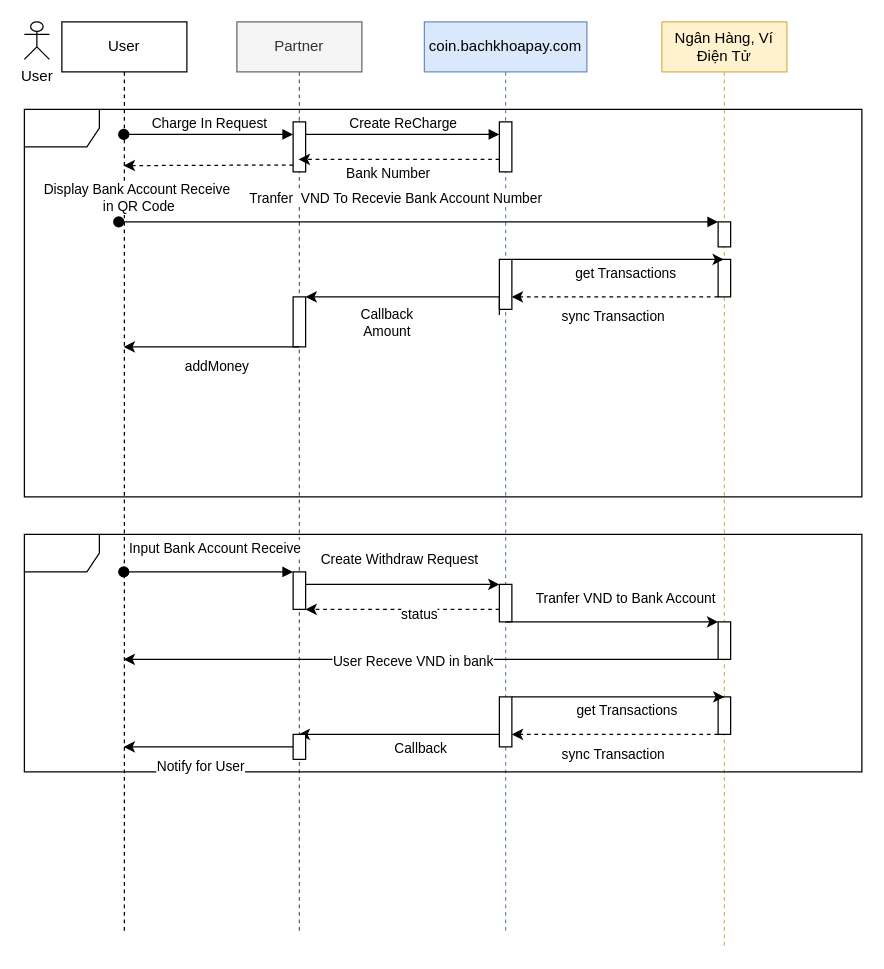
This 884x969 diagram has some shape labels left out. Here are the shapes that lost their labels. From the top down, the centre of each, then its label:
At (x=442, y=302): "IN".
At (x=442, y=652): "OUT".
